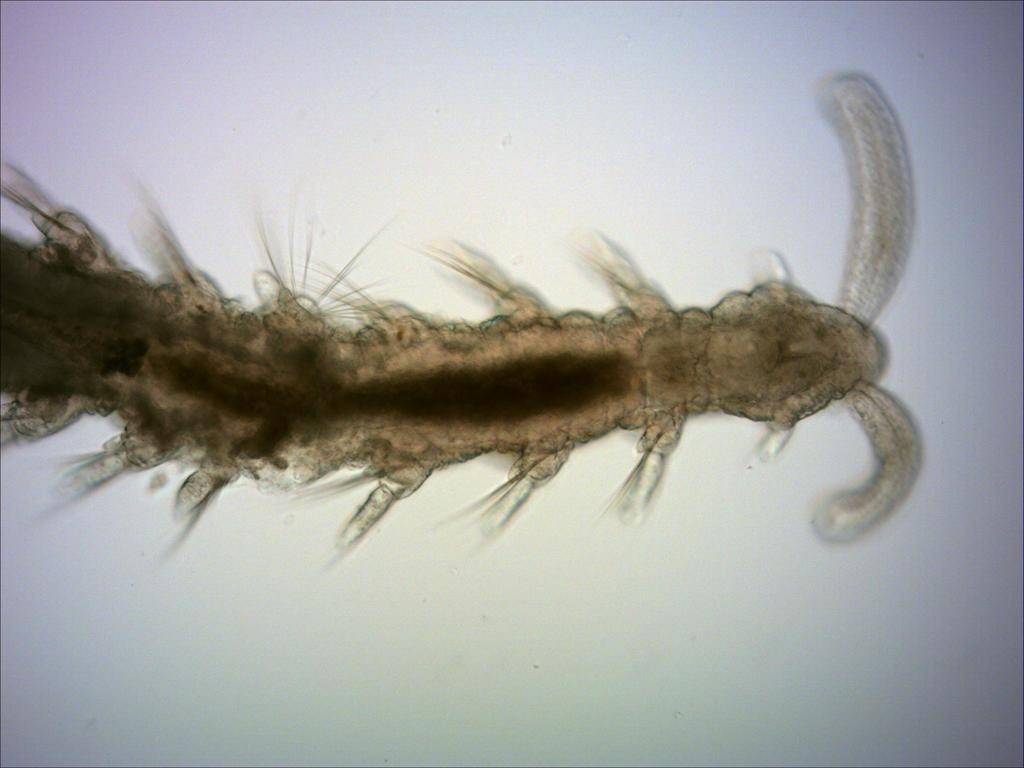insect: (0, 76, 924, 561)
